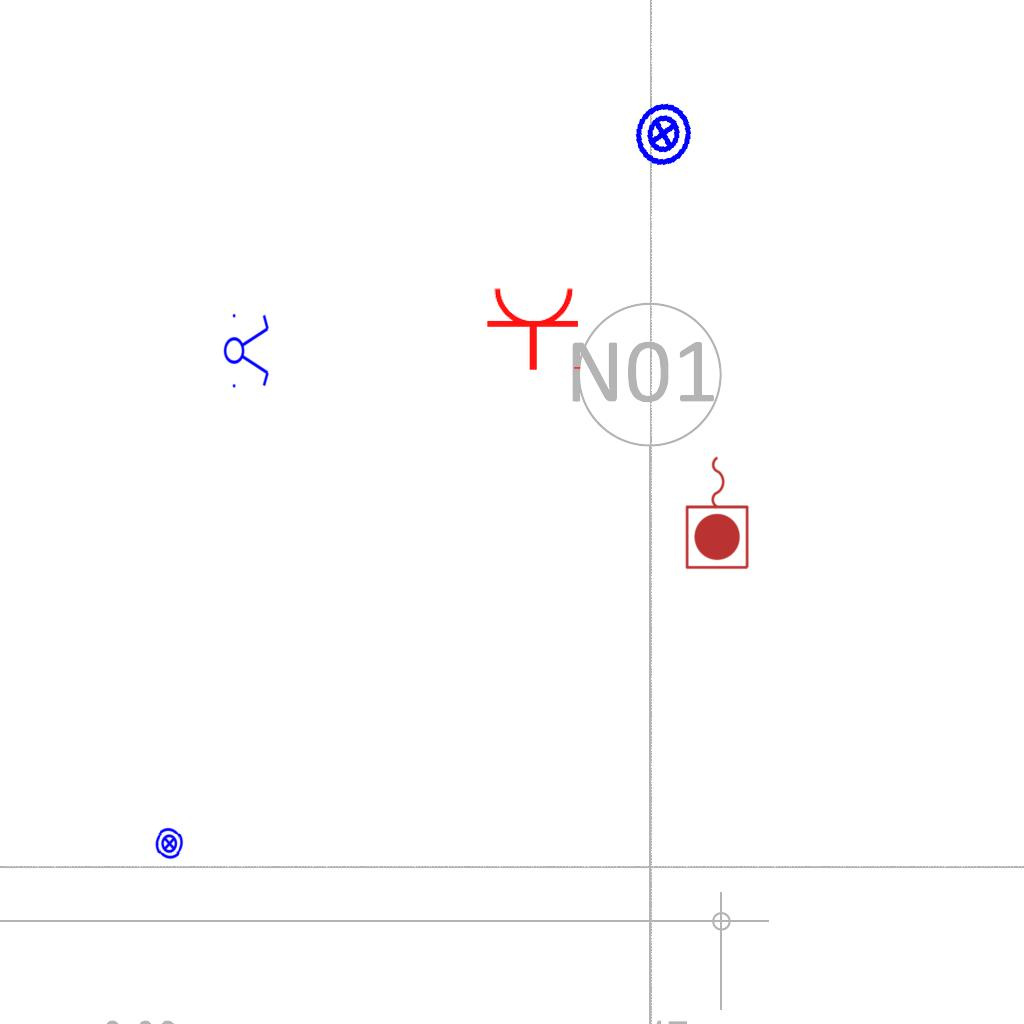Schukosteckdose_einfach: (485, 285, 585, 372)
Serienschalter: (223, 308, 271, 392)
Taster_beleuchtet: (624, 95, 702, 173), (152, 826, 187, 861)
Zugtaster: (682, 451, 754, 573)
